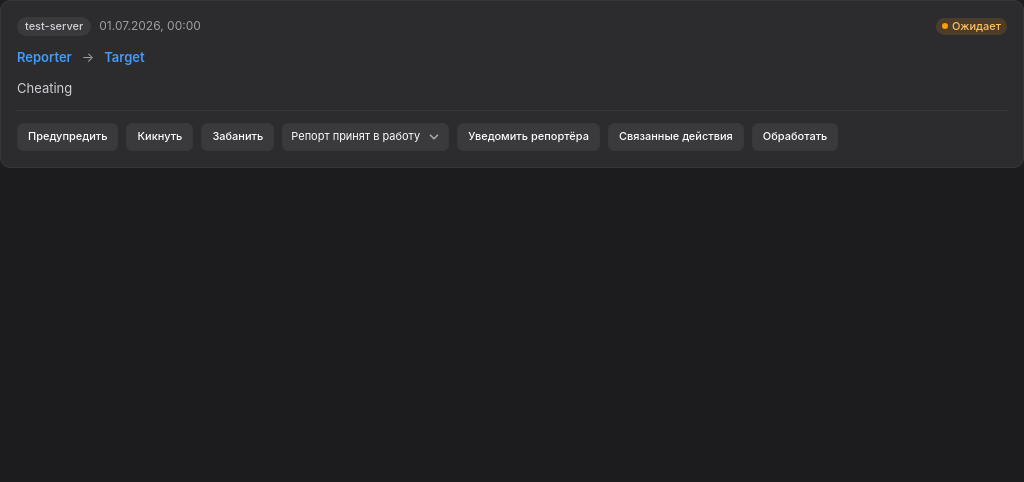
Scenario: ReportCard › shows the API code in the editor when saving fails
The image size is (1024, 482).
Click the button "Обработать" at (795, 136), box x1=752 y1=122 x2=838 y2=150
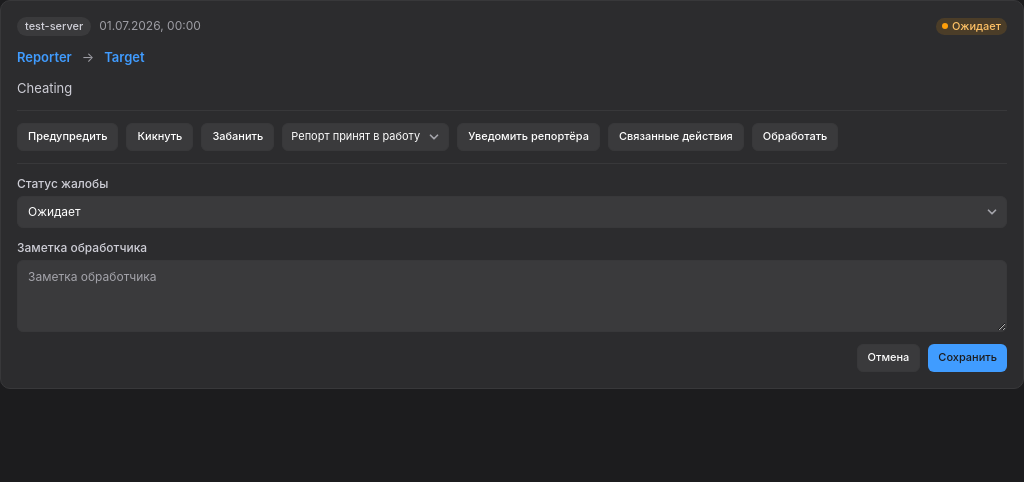
Select "Отклонён" in the dropdown labelled "Статус жалобы" at (512, 212), box x1=17 y1=196 x2=1007 y2=228
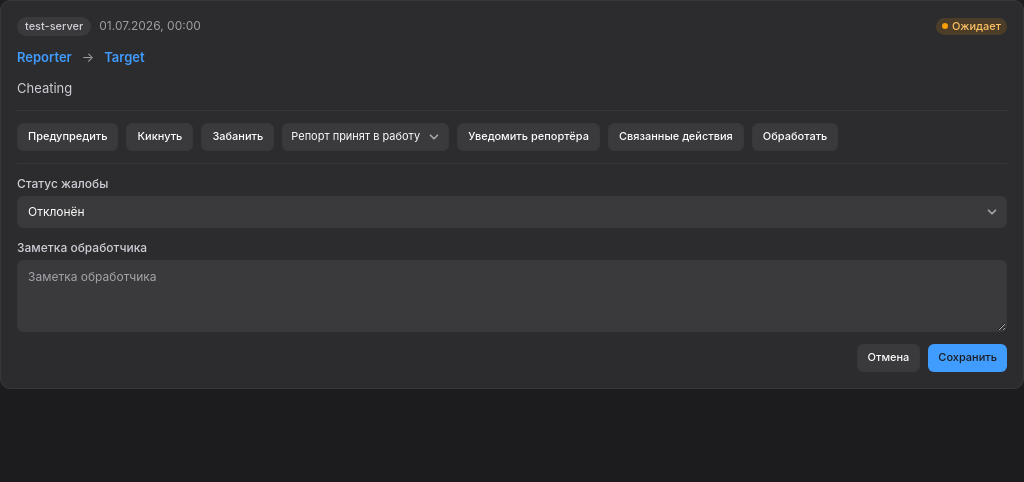
Click the button "Сохранить" at (968, 358), box x1=928 y1=344 x2=1007 y2=372
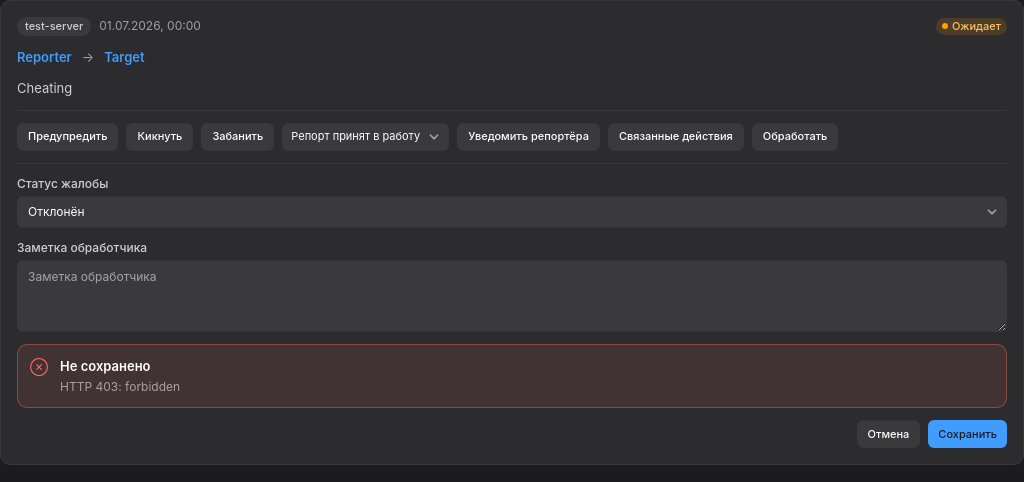
Expected: the text "HTTP 403: forbidden" is shown, x1=60 y1=379 x2=180 y2=394
